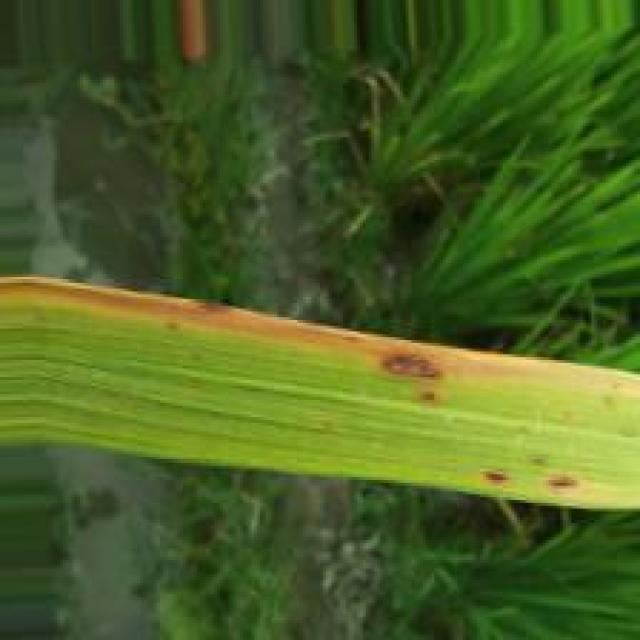Narrow_Brown_Leaf_Spot: (0, 269, 632, 414)
